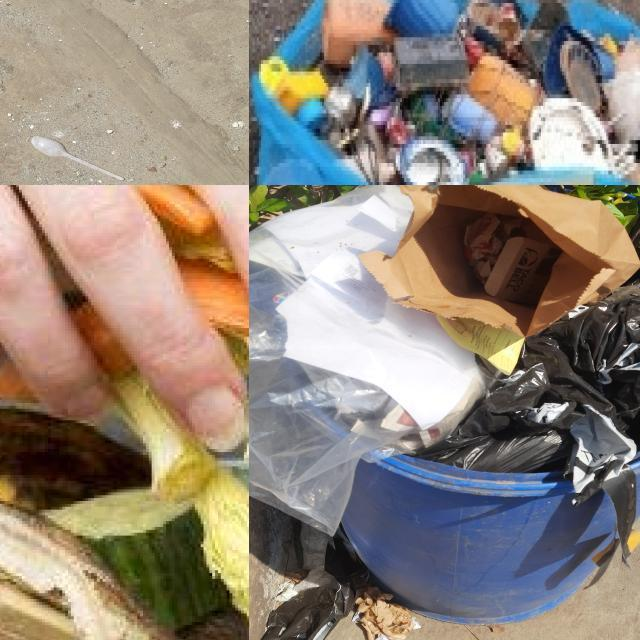Disposable: (32, 137, 124, 181)
Garbage: (249, 185, 640, 545), (259, 0, 640, 185), (0, 416, 249, 640)
Nylog_sting: (630, 215, 640, 248)
Plastic: (529, 97, 636, 177), (544, 23, 604, 113), (465, 213, 525, 283), (259, 55, 329, 113), (385, 0, 458, 36)
Plastic_Bag: (249, 185, 486, 534), (418, 280, 640, 575)
